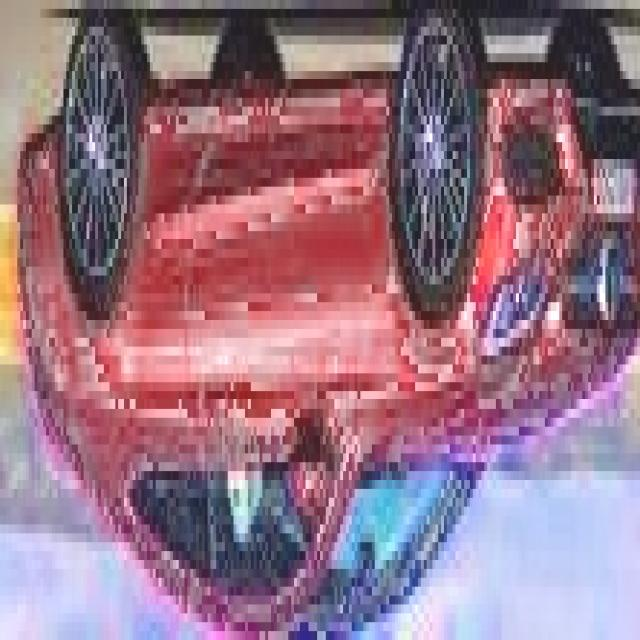maroon: (0, 67, 634, 609)
